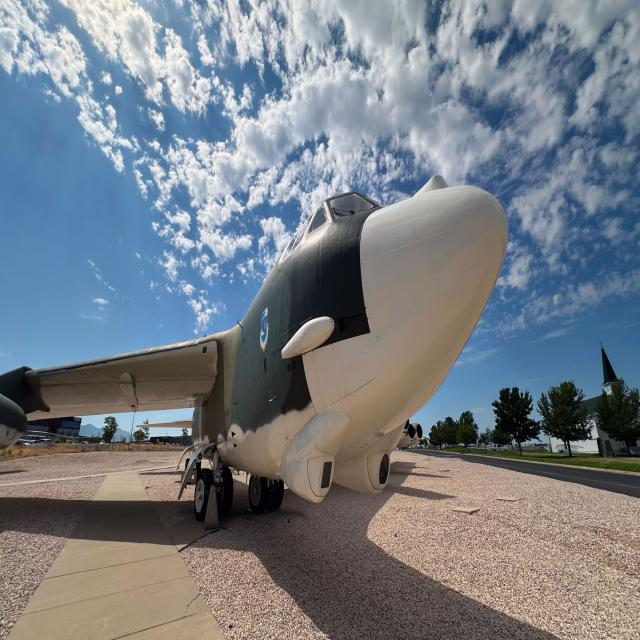B52: (0, 102, 526, 570)
